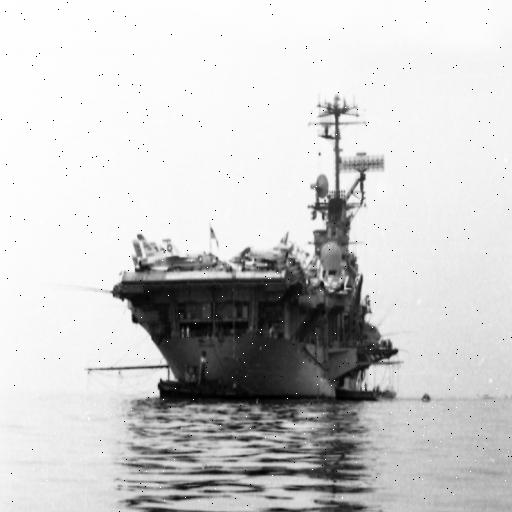Portanaves: (108, 87, 405, 415)
